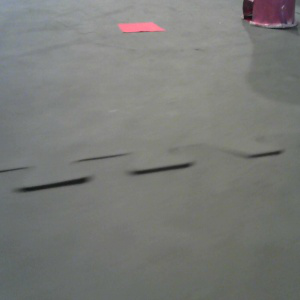right: (240, 1, 300, 29)
